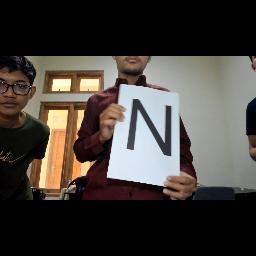n: (125, 96, 177, 164)
